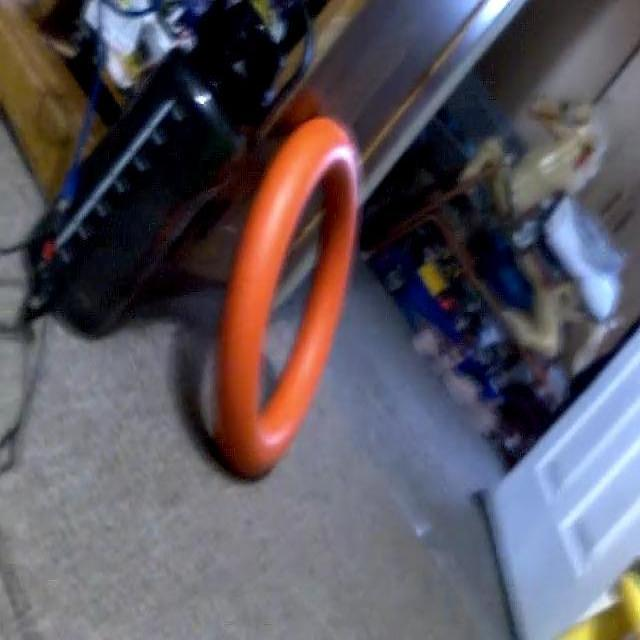note: (211, 112, 363, 481)
